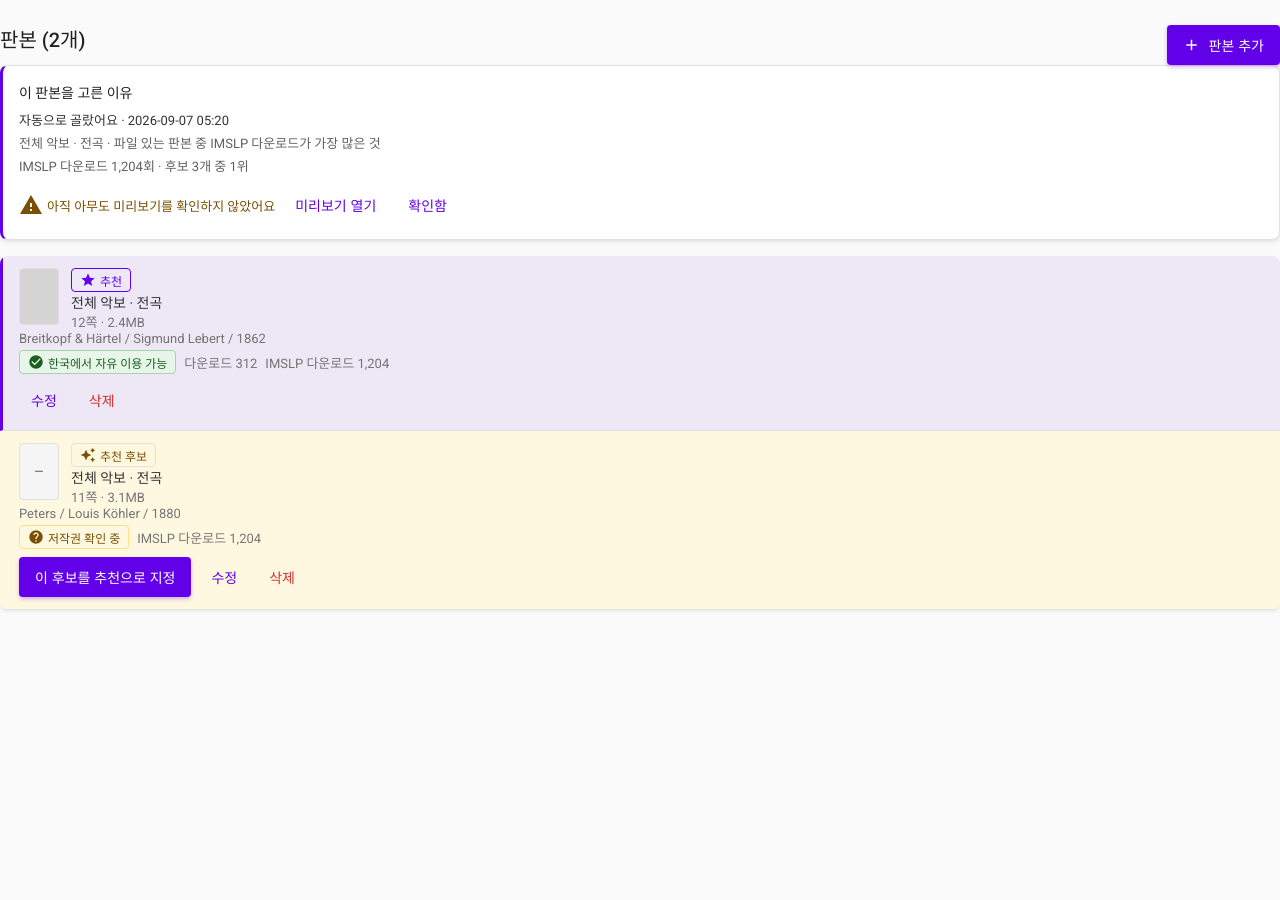
Test case: 추천으로 지정 → 패널 (화면정의 A-2 · A-3) › 누르면 즉시 바꾸지 않고 사유를 고르는 자리가 열린다 (기획 §3-1)
This screenshot has width=1280, height=900.
Click the button "이 후보를 추천으로 지정" at (105, 577), box [19,557,192,597]
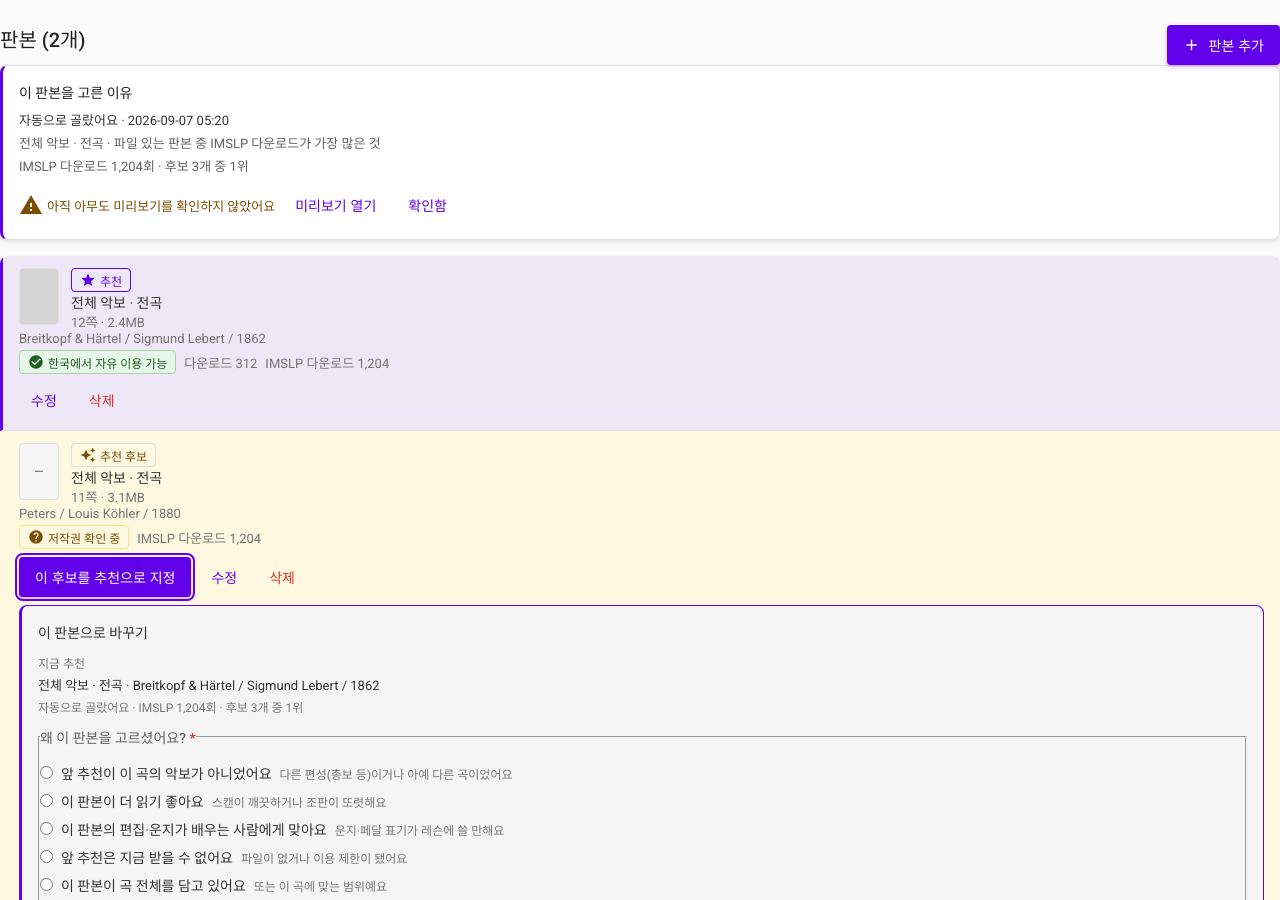
Result: the text "이 판본으로 바꾸기" is shown at [38,625,148,641]
